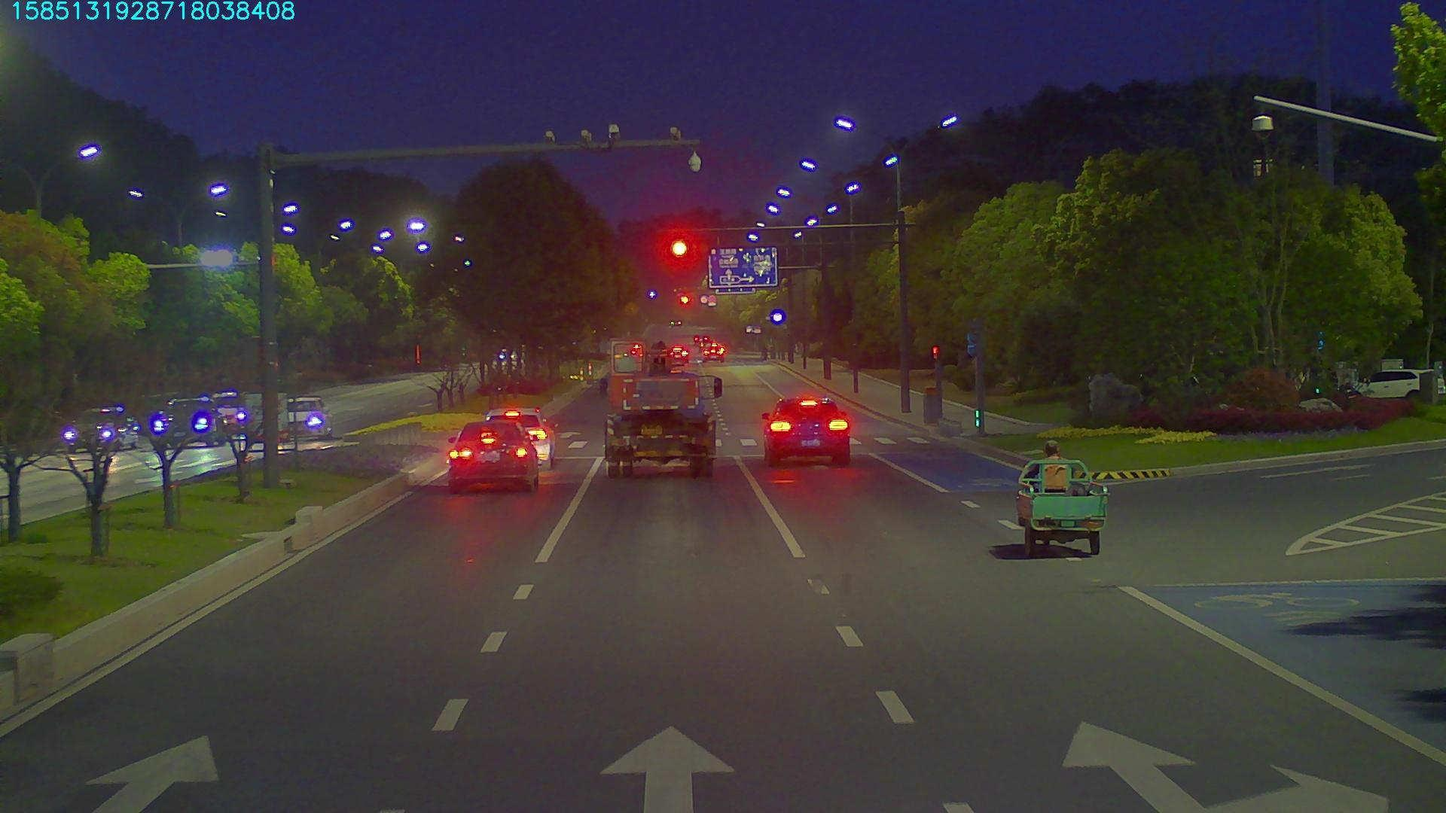red: (660, 233, 688, 255)
